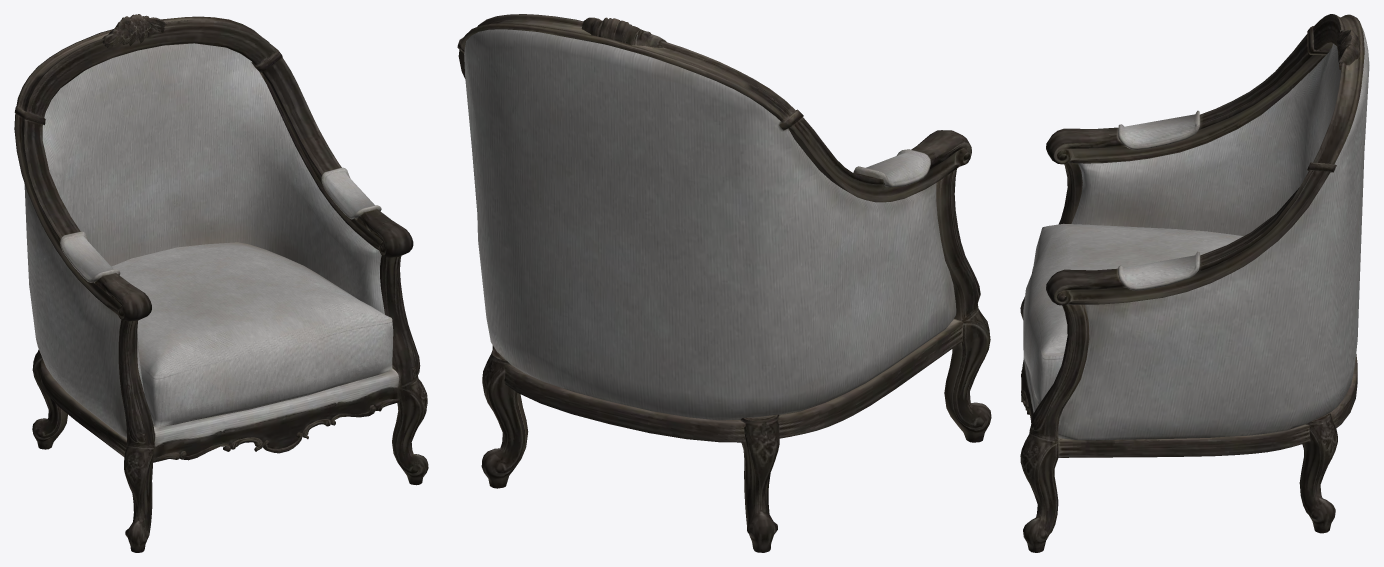
Rendered from ArmChair_01.gltf.
The picture shows the model from 3 angles, left to right: view 1: azimuth 30°, elevation 25°; view 2: azimuth 150°, elevation 25°; view 3: azimuth 270°, elevation 25°; orthographic projection. The views are drawn at different scales.
Parts seen in each view (by area): view 1: ArmChair_01; view 2: ArmChair_01; view 3: ArmChair_01.
Boxes of the visible parts, box(x1,y1,x2,y2) form: ArmChair_01: box(14, 14, 428, 552); ArmChair_01: box(457, 14, 991, 552); ArmChair_01: box(1020, 14, 1369, 552).
Bounding box in the file's own units: 0.8485 × 1.07 × 0.7658.
1 material, 1 textured.
